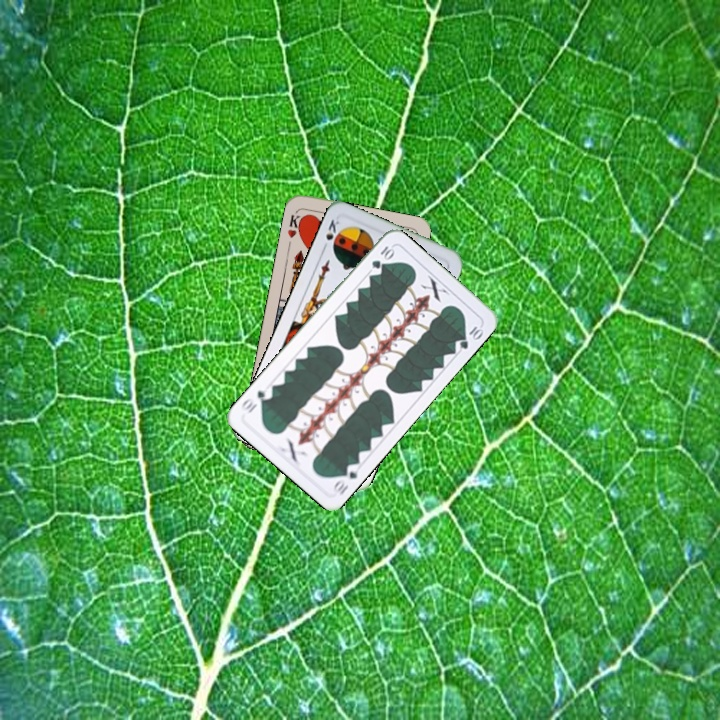G10: (328, 459, 363, 498), (367, 242, 397, 271)
HK: (284, 207, 306, 241)
SK: (318, 215, 342, 253)
